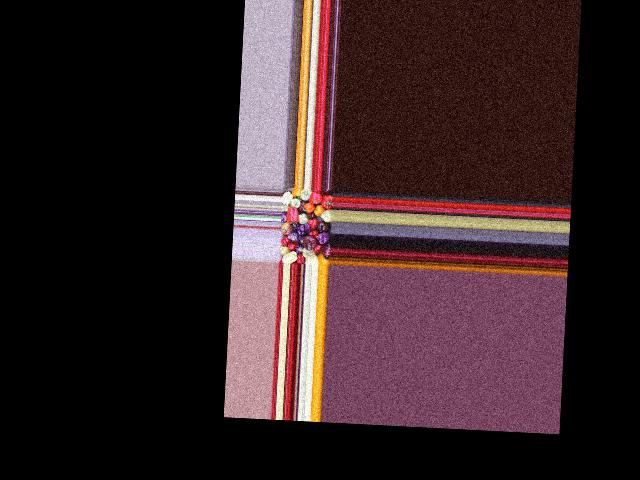bell_pepper: (301, 188, 311, 202)
